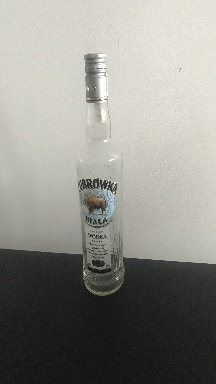butelka: (73, 49, 126, 298)
